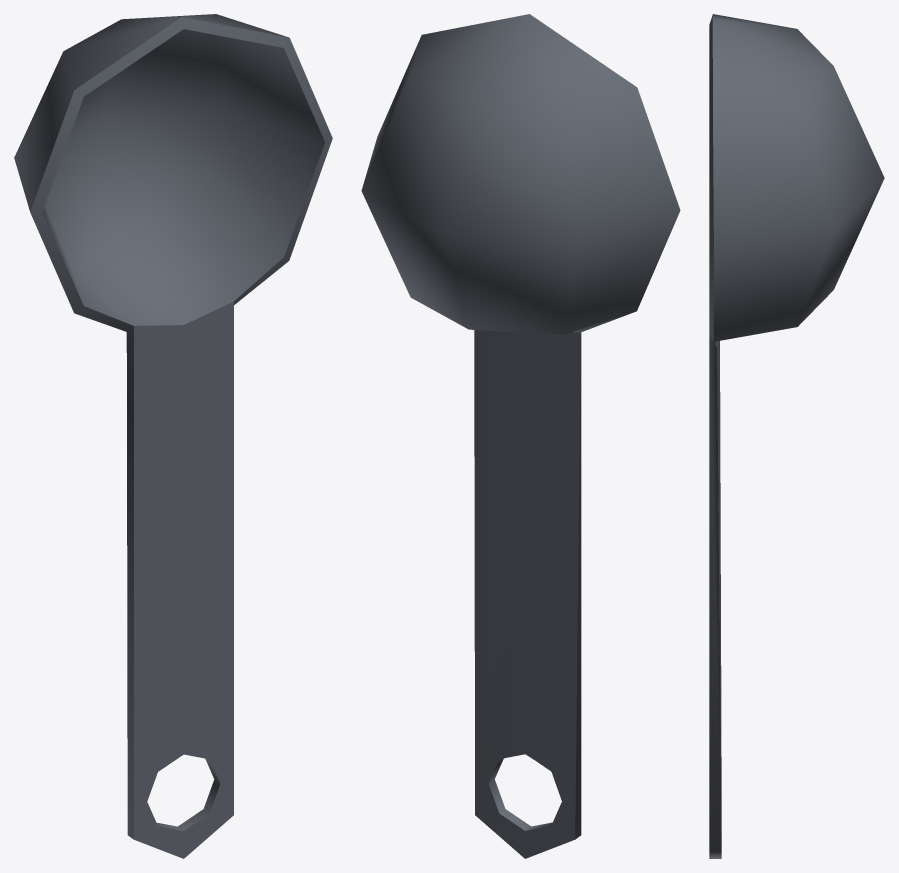
File: cooking_assets_measuring_spoon_qivylzpgyp.glb
3 views of the same model, side by side, from view 1: azimuth 30°, elevation 25°; view 2: azimuth 150°, elevation 25°; view 3: azimuth 270°, elevation 25° (orthographic).
Parts seen in each view (by area): view 1: mspoon_measuring_spoons_medium.001_Sphere.005; view 2: mspoon_measuring_spoons_medium.001_Sphere.005; view 3: mspoon_measuring_spoons_medium.001_Sphere.005.
Part boxes in pixels (x1,y1,x2,y2): mspoon_measuring_spoons_medium.001_Sphere.005: [14, 14, 332, 858]; mspoon_measuring_spoons_medium.001_Sphere.005: [361, 14, 680, 858]; mspoon_measuring_spoons_medium.001_Sphere.005: [709, 14, 884, 858].
Bounding box in the file's own units: 0.6742 × 1.79 × 0.3389.
Materials: 1 (1 with a texture image).
